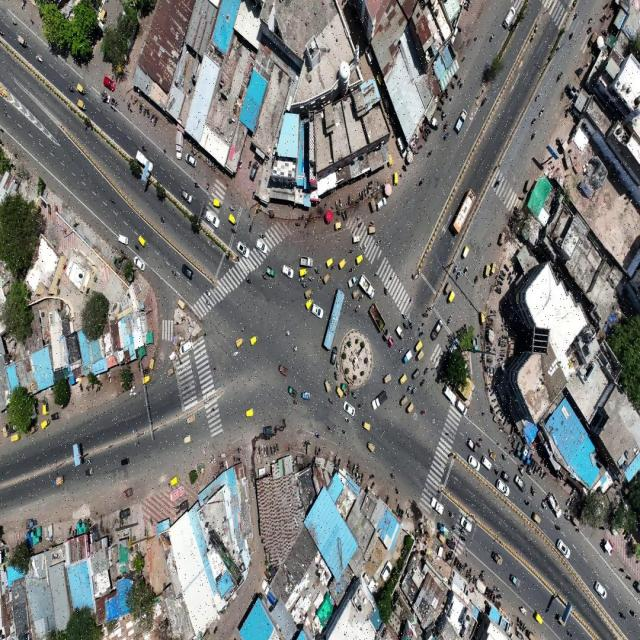3W: (176, 296, 188, 312), (245, 406, 258, 420), (351, 228, 361, 244), (75, 100, 86, 114), (366, 437, 376, 452), (462, 244, 470, 262), (185, 414, 197, 426), (472, 531, 482, 545), (489, 260, 497, 277), (166, 475, 178, 486), (618, 576, 629, 588), (303, 287, 313, 300), (497, 230, 505, 246), (249, 333, 258, 347), (479, 308, 486, 326), (181, 435, 193, 445), (489, 556, 499, 568), (322, 380, 332, 392), (342, 412, 350, 427), (228, 213, 237, 226), (417, 349, 425, 363), (214, 196, 222, 210), (39, 418, 49, 429), (146, 358, 156, 369), (334, 387, 343, 399), (383, 372, 392, 384), (17, 32, 26, 44), (166, 367, 176, 377), (462, 531, 469, 545), (444, 279, 451, 293), (448, 292, 455, 306), (413, 368, 420, 382), (399, 373, 406, 386), (400, 393, 407, 406), (139, 235, 148, 245), (120, 456, 130, 465), (299, 267, 308, 277), (322, 274, 331, 284), (85, 468, 94, 478), (362, 419, 370, 430), (483, 264, 490, 276), (392, 168, 399, 180), (334, 221, 343, 230), (339, 259, 347, 269), (77, 82, 85, 92), (139, 377, 151, 383), (326, 257, 334, 266), (352, 288, 360, 297), (41, 404, 48, 414), (356, 254, 363, 264), (237, 337, 244, 347), (416, 339, 422, 350), (306, 300, 312, 309)
Bus: (448, 187, 478, 235), (323, 288, 345, 349)
Cars: (596, 578, 612, 608), (495, 479, 511, 499), (556, 539, 570, 559), (430, 320, 443, 341), (442, 385, 456, 404), (455, 399, 469, 418), (179, 337, 193, 356), (206, 210, 220, 229), (132, 252, 145, 272), (468, 450, 480, 470), (312, 300, 324, 320), (282, 264, 295, 282), (181, 190, 194, 206), (481, 456, 494, 472), (237, 242, 250, 258), (255, 238, 268, 254), (344, 398, 356, 414), (104, 75, 116, 91), (116, 232, 129, 246), (376, 196, 386, 214), (182, 264, 193, 278), (482, 456, 493, 468), (330, 348, 337, 366)
LCV: (367, 303, 394, 349), (134, 143, 156, 173), (359, 270, 376, 300), (548, 486, 563, 518), (454, 106, 468, 137), (370, 391, 389, 411), (430, 497, 445, 518), (299, 252, 313, 269), (264, 264, 276, 278), (519, 500, 531, 513), (438, 524, 450, 537), (396, 324, 405, 340), (301, 389, 312, 402), (287, 384, 298, 397), (341, 382, 350, 397), (278, 365, 289, 377), (52, 476, 65, 486), (403, 351, 412, 365), (121, 487, 133, 497), (472, 334, 479, 351), (262, 426, 272, 436), (348, 277, 357, 287)
M2W: (518, 584, 526, 600), (498, 446, 508, 458), (534, 92, 543, 105), (35, 52, 42, 68), (158, 212, 166, 226), (487, 32, 496, 44), (480, 94, 488, 107), (529, 115, 537, 128), (67, 81, 75, 94), (473, 436, 481, 449), (493, 178, 501, 190), (420, 405, 427, 418), (240, 323, 249, 333), (494, 551, 504, 560), (426, 149, 434, 160), (348, 243, 356, 254), (402, 320, 409, 332), (550, 610, 557, 622), (85, 456, 93, 466), (232, 348, 240, 358), (510, 474, 518, 484), (388, 469, 398, 477), (452, 261, 458, 274), (352, 304, 358, 317), (348, 262, 354, 275), (556, 71, 563, 82), (486, 569, 494, 578), (531, 130, 537, 142), (540, 509, 547, 519), (12, 16, 17, 30), (447, 314, 453, 325), (292, 398, 298, 409), (368, 216, 374, 227), (336, 360, 342, 371), (261, 273, 268, 282), (360, 242, 367, 251), (531, 489, 538, 498), (462, 268, 469, 277), (193, 179, 200, 188), (412, 386, 419, 395), (444, 130, 450, 140), (309, 272, 314, 284), (505, 462, 511, 472), (538, 108, 544, 118), (456, 271, 462, 281), (419, 176, 425, 186), (382, 287, 388, 297), (111, 196, 117, 206), (244, 277, 252, 284), (286, 327, 291, 338), (314, 263, 319, 274), (300, 282, 306, 291), (351, 390, 357, 399), (350, 417, 356, 426), (407, 383, 412, 393), (297, 276, 303, 284), (376, 240, 382, 248), (293, 346, 299, 354), (420, 378, 426, 386), (358, 294, 363, 303), (408, 319, 413, 328), (424, 367, 428, 378), (318, 274, 322, 285), (171, 269, 177, 276), (442, 122, 448, 129), (371, 228, 376, 236), (474, 274, 479, 282), (358, 402, 363, 409), (497, 456, 502, 463), (527, 496, 531, 504)
